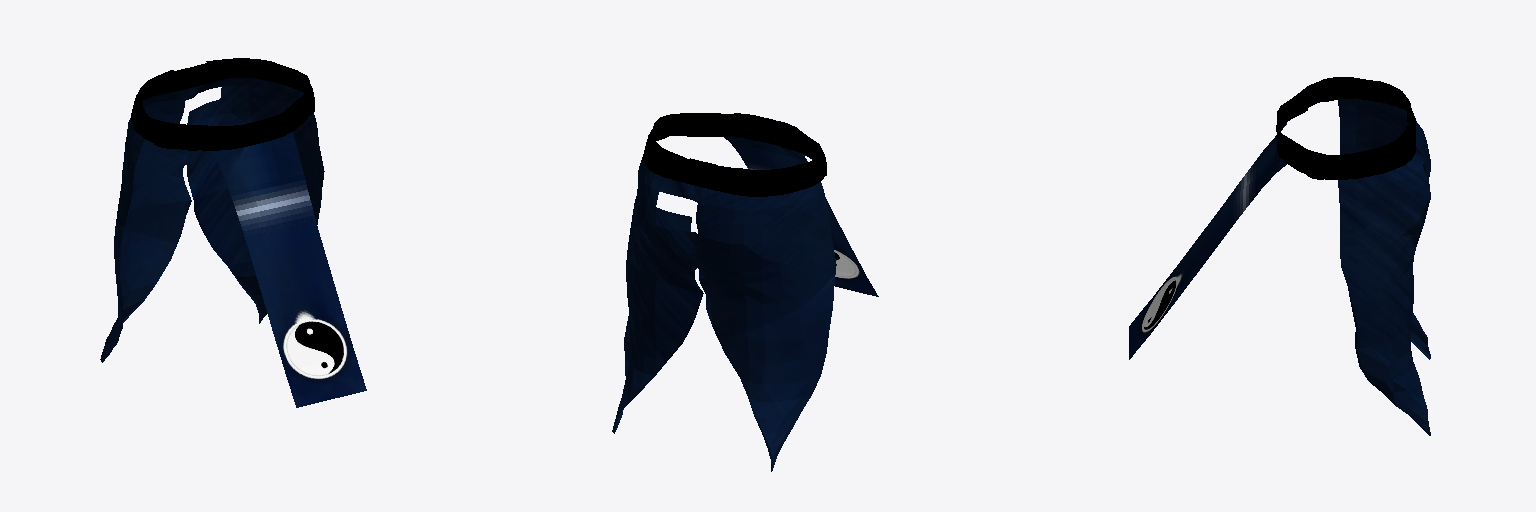
3 views of the same model, side by side, from view 1: azimuth 30°, elevation 25°; view 2: azimuth 150°, elevation 25°; view 3: azimuth 270°, elevation 25° (orthographic).
Visible parts, largest first — view 1: SuperSuit.001_Superman.006; view 2: SuperSuit.001_Superman.006; view 3: SuperSuit.001_Superman.006.
Part boxes in pixels (x1,y1,x2,y2): SuperSuit.001_Superman.006: (100, 58, 366, 407); SuperSuit.001_Superman.006: (612, 113, 878, 471); SuperSuit.001_Superman.006: (1129, 77, 1430, 435).
Bounding box in the file's own units: 2.11 × 2.84 × 2.73.
2 materials, 1 textured.